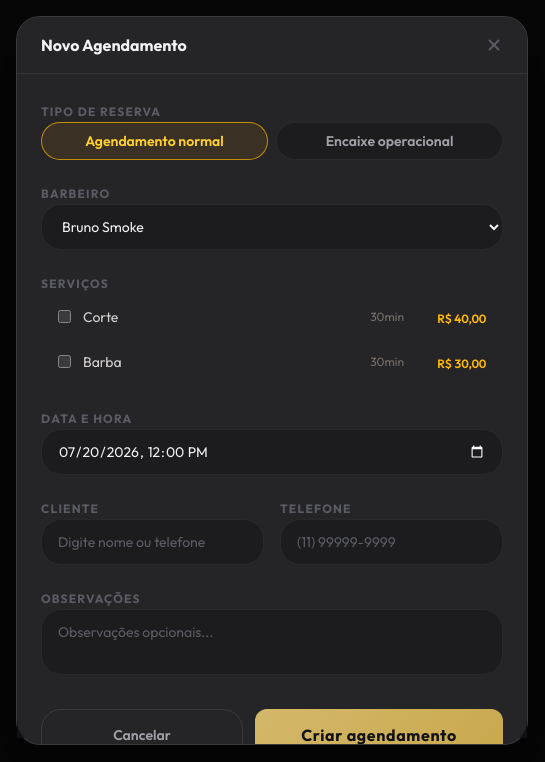
Test: UI Cliente Clube no Modal de Agendamentos › 3. Cliente com Clube em inadimplência (PAST_DUE): exibe aviso de bloqueio e não cobre serviço
In the search field titled "Cliente": coordinates (152, 542) [41,518,264,564], type "Maria"
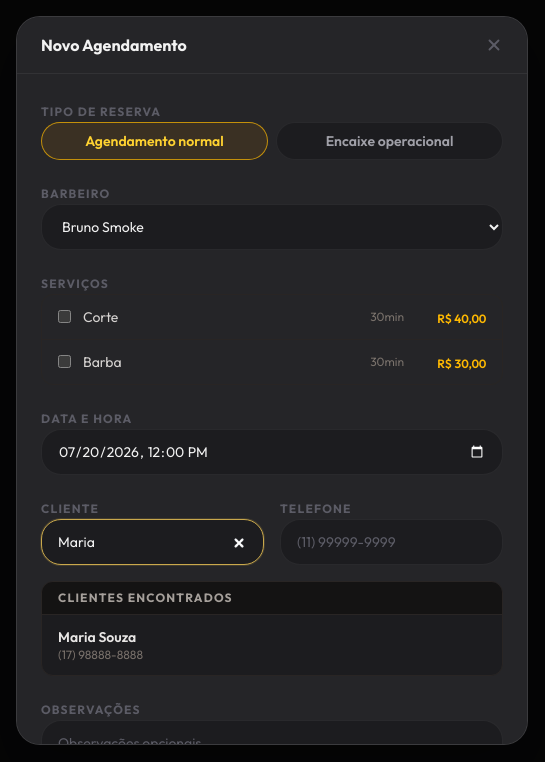
Check: the text "Maria Souza" is shown
Click the text "Maria Souza": coordinates (97, 636) [58,628,136,646]
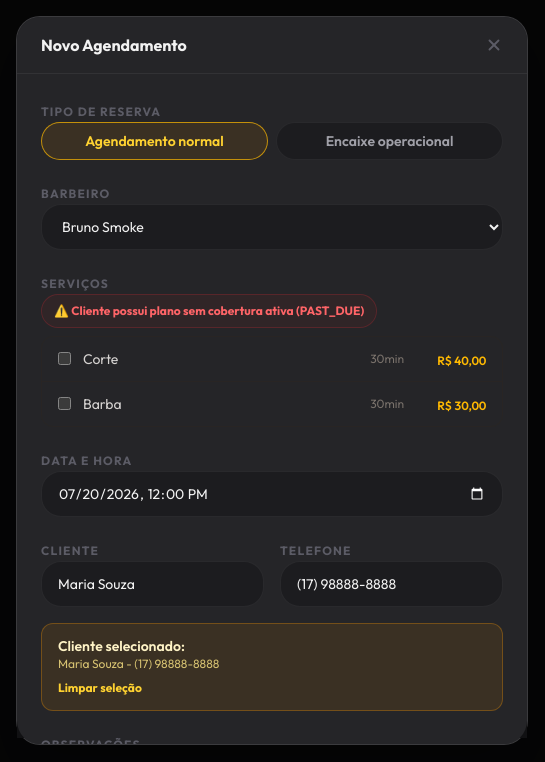
Check: the text "⚠️ Cliente possui plano sem cobertura ativa (PAST_DUE)" is shown, box [54,302,364,318]
